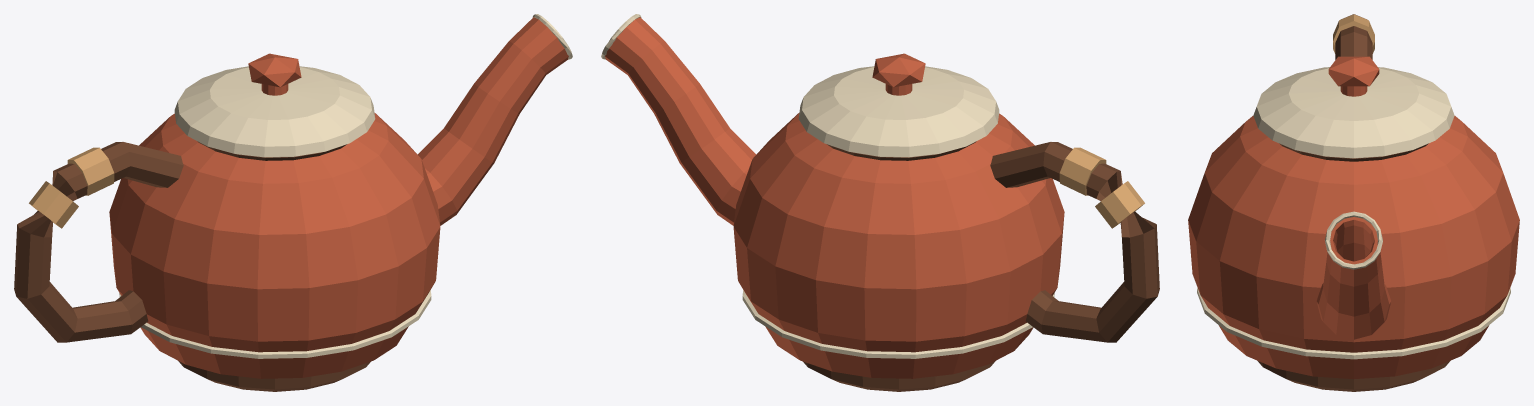
File: 017_sculptural_teapot_v01.glb
3 views of the same model, side by side, from view 1: azimuth 30°, elevation 25°; view 2: azimuth 150°, elevation 25°; view 3: azimuth 270°, elevation 25° (orthographic).
Parts seen in each view (by area): view 1: Terracotta faceted teapot body, Lift-off sculpted teapot lid, True hollow rising teapot spout, Large open teapot loop handle, Teapot lower slip band, Teapot recessed ceramic foot, Teapot flattened lid finial, Handle warm grip wrap, Handle warm grip wrap.001, Teapot lid seating shadow; view 2: Terracotta faceted teapot body, Lift-off sculpted teapot lid, True hollow rising teapot spout, Large open teapot loop handle, Teapot lower slip band, Teapot recessed ceramic foot, Teapot flattened lid finial, Handle warm grip wrap, Handle warm grip wrap.001, Teapot lid seating shadow; view 3: Terracotta faceted teapot body, Lift-off sculpted teapot lid, True hollow rising teapot spout, Teapot lower slip band, Teapot recessed ceramic foot, Teapot flattened lid finial, Large open teapot loop handle, Ivory spout lip, Handle warm grip wrap, Teapot lid seating shadow.
Part boxes in pixels (bbox=[...]): Terracotta faceted teapot body: bbox=[109, 113, 440, 378]; Lift-off sculpted teapot lid: bbox=[174, 66, 375, 157]; True hollow rising teapot spout: bbox=[417, 17, 568, 225]; Large open teapot loop handle: bbox=[14, 142, 183, 342]; Teapot lower slip band: bbox=[119, 290, 431, 358]; Teapot recessed ceramic foot: bbox=[178, 361, 370, 391]; Teapot flattened lid finial: bbox=[248, 53, 301, 87]; Handle warm grip wrap: bbox=[67, 147, 114, 195]; Handle warm grip wrap.001: bbox=[29, 181, 78, 228]; Teapot lid seating shadow: bbox=[197, 141, 346, 160]; Terracotta faceted teapot body: bbox=[733, 113, 1064, 378]; Lift-off sculpted teapot lid: bbox=[798, 66, 999, 157]; True hollow rising teapot spout: bbox=[605, 17, 756, 225]; Large open teapot loop handle: bbox=[990, 142, 1159, 342]; Teapot lower slip band: bbox=[742, 290, 1054, 358]; Teapot recessed ceramic foot: bbox=[803, 361, 995, 391]; Teapot flattened lid finial: bbox=[872, 53, 925, 87]; Handle warm grip wrap: bbox=[1059, 147, 1106, 195]; Handle warm grip wrap.001: bbox=[1095, 181, 1144, 228]; Teapot lid seating shadow: bbox=[827, 141, 976, 160]; Terracotta faceted teapot body: bbox=[1188, 116, 1519, 379]; Lift-off sculpted teapot lid: bbox=[1253, 67, 1454, 158]; True hollow rising teapot spout: bbox=[1316, 217, 1391, 339]; Teapot lower slip band: bbox=[1197, 288, 1510, 359]; Teapot recessed ceramic foot: bbox=[1258, 361, 1449, 391]; Teapot flattened lid finial: bbox=[1328, 56, 1379, 86]; Large open teapot loop handle: bbox=[1335, 14, 1372, 59]; Ivory spout lip: bbox=[1325, 211, 1382, 269]; Handle warm grip wrap: bbox=[1333, 14, 1374, 46]; Teapot lid seating shadow: bbox=[1279, 143, 1428, 161].
Bounding box in the file's own units: 0.5726 × 0.294 × 0.3.
